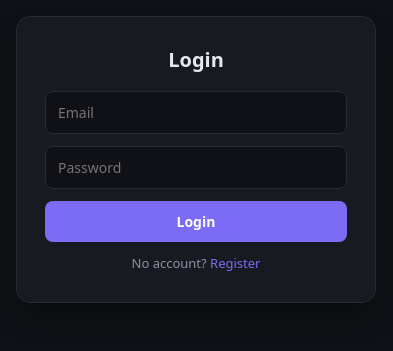
Scenario: register › shows a registration error when the email is taken
Click the button "Register" at x=235, y=264, box 210,254 -> 260,274
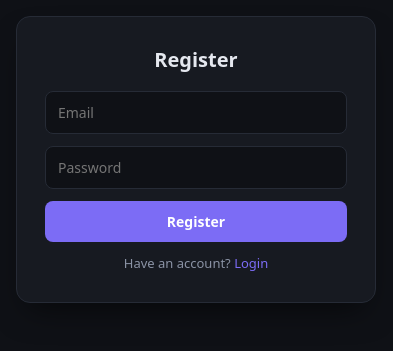
Type "a@b.com" into the field with placeholder "Email" at x=196, y=112, box 45,91 -> 347,134
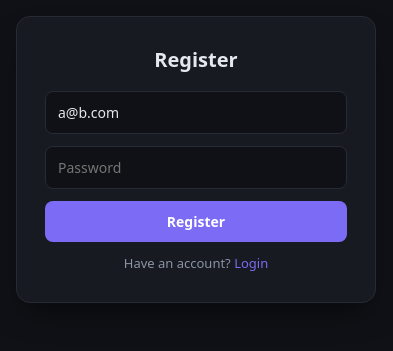
Type "secret123" into the password field with placeholder "Password" at x=196, y=168, box 45,146 -> 347,189
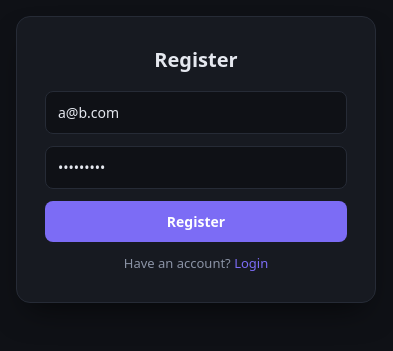
Click the button "Register" at x=196, y=222, box 45,201 -> 347,242
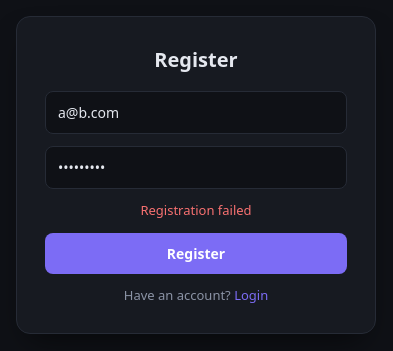
Result: the text "Registration failed" is shown at 140,201 -> 252,219
